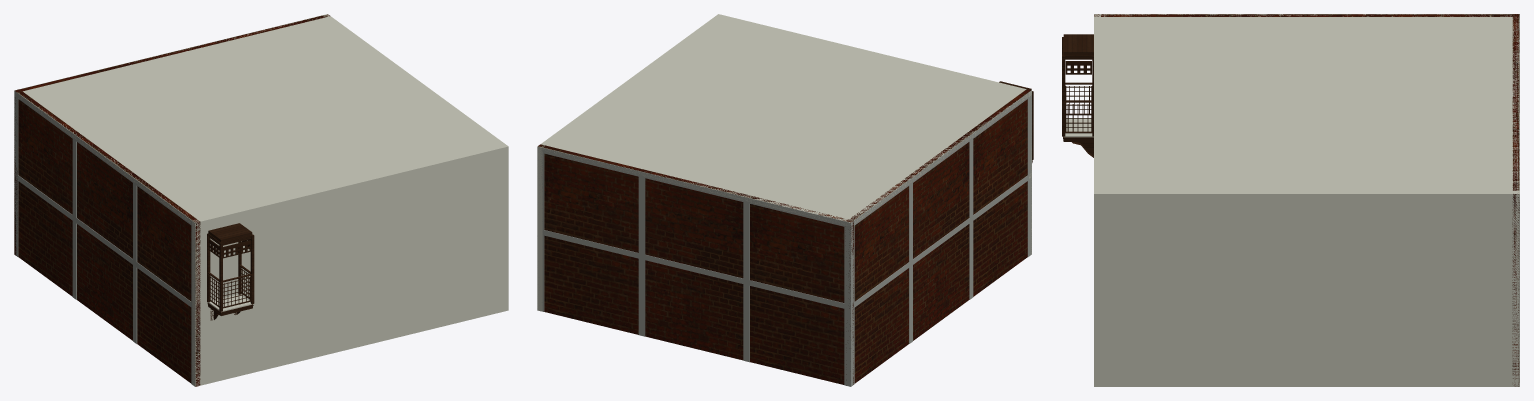
File: building.glb
3 views of the same model, side by side, from view 1: azimuth 30°, elevation 25°; view 2: azimuth 150°, elevation 25°; view 3: azimuth 270°, elevation 25° (orthographic). The views are drawn at different scales.
Parts seen in each view (by area): view 1: roof/house:0/roof_slab#0001, house:0/edge0/z0/house:0/edge0/z0/wall_0_0, house:0/edge3/z0/house:0/edge3/z0/wall_0_0, house:0/edge2/z0/house:0/edge2/z0/wall_0_0, house:0/edge3/z0/house:0/edge3/z0/beam_0_0, house:0/edge3/z0/house:0/edge3/z0/beam_1_0, house:0/edge1/z0/house:0/edge1/z0/wall_0_0, balcony/sample/balcony_cover#0001; view 2: roof/house:0/roof_slab#0001, house:0/edge2/z0/house:0/edge2/z0/wall_0_0, house:0/edge3/z0/house:0/edge3/z0/wall_0_0, house:0/edge1/z0/house:0/edge1/z0/wall_0_0, house:0/edge2/z0/house:0/edge2/z0/beam_0_0, house:0/edge2/z0/house:0/edge2/z0/beam_1_0, house:0/edge3/z0/house:0/edge3/z0/beam_0_0, house:0/edge0/z0/house:0/edge0/z0/wall_0_0, house:0/edge3/z0/house:0/edge3/z0/beam_1_0, house:0/edge2/z0/house:0/edge2/z0/column_2_0, house:0/edge2/z0/house:0/edge2/z0/column_1_1, house:0/edge2/z0/house:0/edge2/z0/column_2_1 (+3 smaller); view 3: house:0/edge1/z0/house:0/edge1/z0/wall_0_0, roof/house:0/roof_slab#0001, house:0/edge0/z0/house:0/edge0/z0/wall_0_0, house:0/edge2/z0/house:0/edge2/z0/wall_0_0, house:0/edge3/z0/house:0/edge3/z0/wall_0_0, balcony/sample/balcony_cover#0001, balcony/sample/balcony_platform#0001.
Boxes of the visible parts, x1,y1,x2,y2 form: roof/house:0/roof_slab#0001: (16, 15, 507, 225); house:0/edge0/z0/house:0/edge0/z0/wall_0_0: (192, 144, 508, 386); house:0/edge3/z0/house:0/edge3/z0/wall_0_0: (17, 89, 200, 386); house:0/edge2/z0/house:0/edge2/z0/wall_0_0: (14, 14, 329, 255); house:0/edge3/z0/house:0/edge3/z0/beam_0_0: (14, 173, 195, 309); house:0/edge3/z0/house:0/edge3/z0/beam_1_0: (14, 91, 195, 228); house:0/edge1/z0/house:0/edge1/z0/wall_0_0: (323, 14, 508, 311); balcony/sample/balcony_cover#0001: (208, 223, 252, 242); roof/house:0/roof_slab#0001: (540, 14, 1031, 225); house:0/edge2/z0/house:0/edge2/z0/wall_0_0: (538, 144, 853, 384); house:0/edge3/z0/house:0/edge3/z0/wall_0_0: (846, 89, 1030, 383); house:0/edge1/z0/house:0/edge1/z0/wall_0_0: (537, 14, 721, 311); house:0/edge2/z0/house:0/edge2/z0/beam_0_0: (542, 230, 851, 310); house:0/edge2/z0/house:0/edge2/z0/beam_1_0: (538, 146, 851, 228); house:0/edge3/z0/house:0/edge3/z0/beam_0_0: (850, 172, 1031, 309); house:0/edge0/z0/house:0/edge0/z0/wall_0_0: (716, 14, 1031, 253); house:0/edge3/z0/house:0/edge3/z0/beam_1_0: (850, 90, 1031, 227); house:0/edge2/z0/house:0/edge2/z0/column_2_0: (638, 177, 645, 254); house:0/edge2/z0/house:0/edge2/z0/column_1_1: (844, 227, 851, 304); house:0/edge2/z0/house:0/edge2/z0/column_2_1: (638, 259, 645, 336); house:0/edge1/z0/house:0/edge1/z0/wall_0_0: (1094, 191, 1519, 386); roof/house:0/roof_slab#0001: (1094, 14, 1519, 198); house:0/edge0/z0/house:0/edge0/z0/wall_0_0: (1094, 14, 1100, 386); house:0/edge2/z0/house:0/edge2/z0/wall_0_0: (1512, 14, 1519, 386); house:0/edge3/z0/house:0/edge3/z0/wall_0_0: (1094, 14, 1519, 16); balcony/sample/balcony_cover#0001: (1063, 34, 1093, 55); balcony/sample/balcony_platform#0001: (1064, 118, 1093, 137).
Bounding box in the file's own units: 12 × 6 × 12.89.
4 materials, 2 textured.
